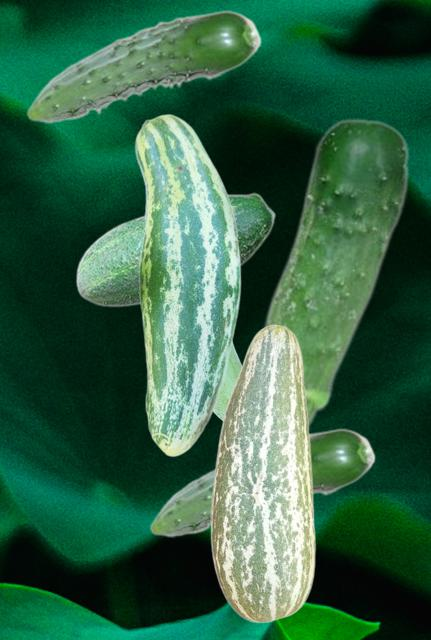cucumber: (261, 118, 409, 428), (134, 113, 240, 456), (210, 324, 315, 622), (26, 10, 261, 122), (149, 428, 375, 536), (75, 192, 275, 306), (214, 206, 241, 420)
